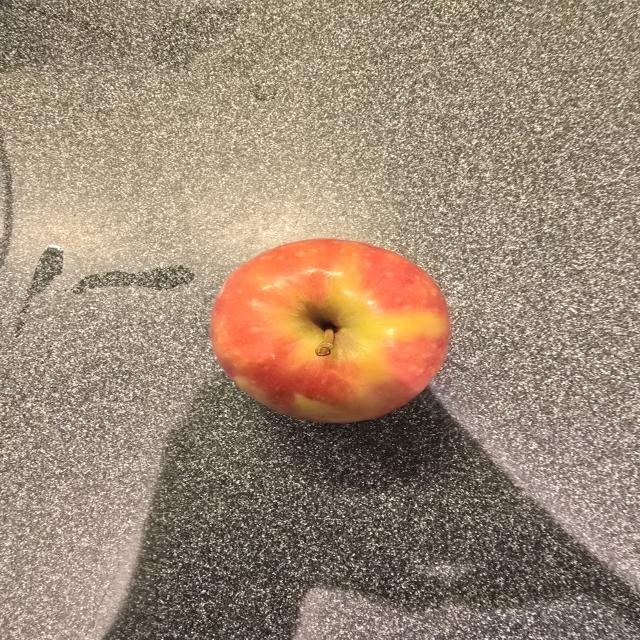Apple: (210, 239, 450, 423)
